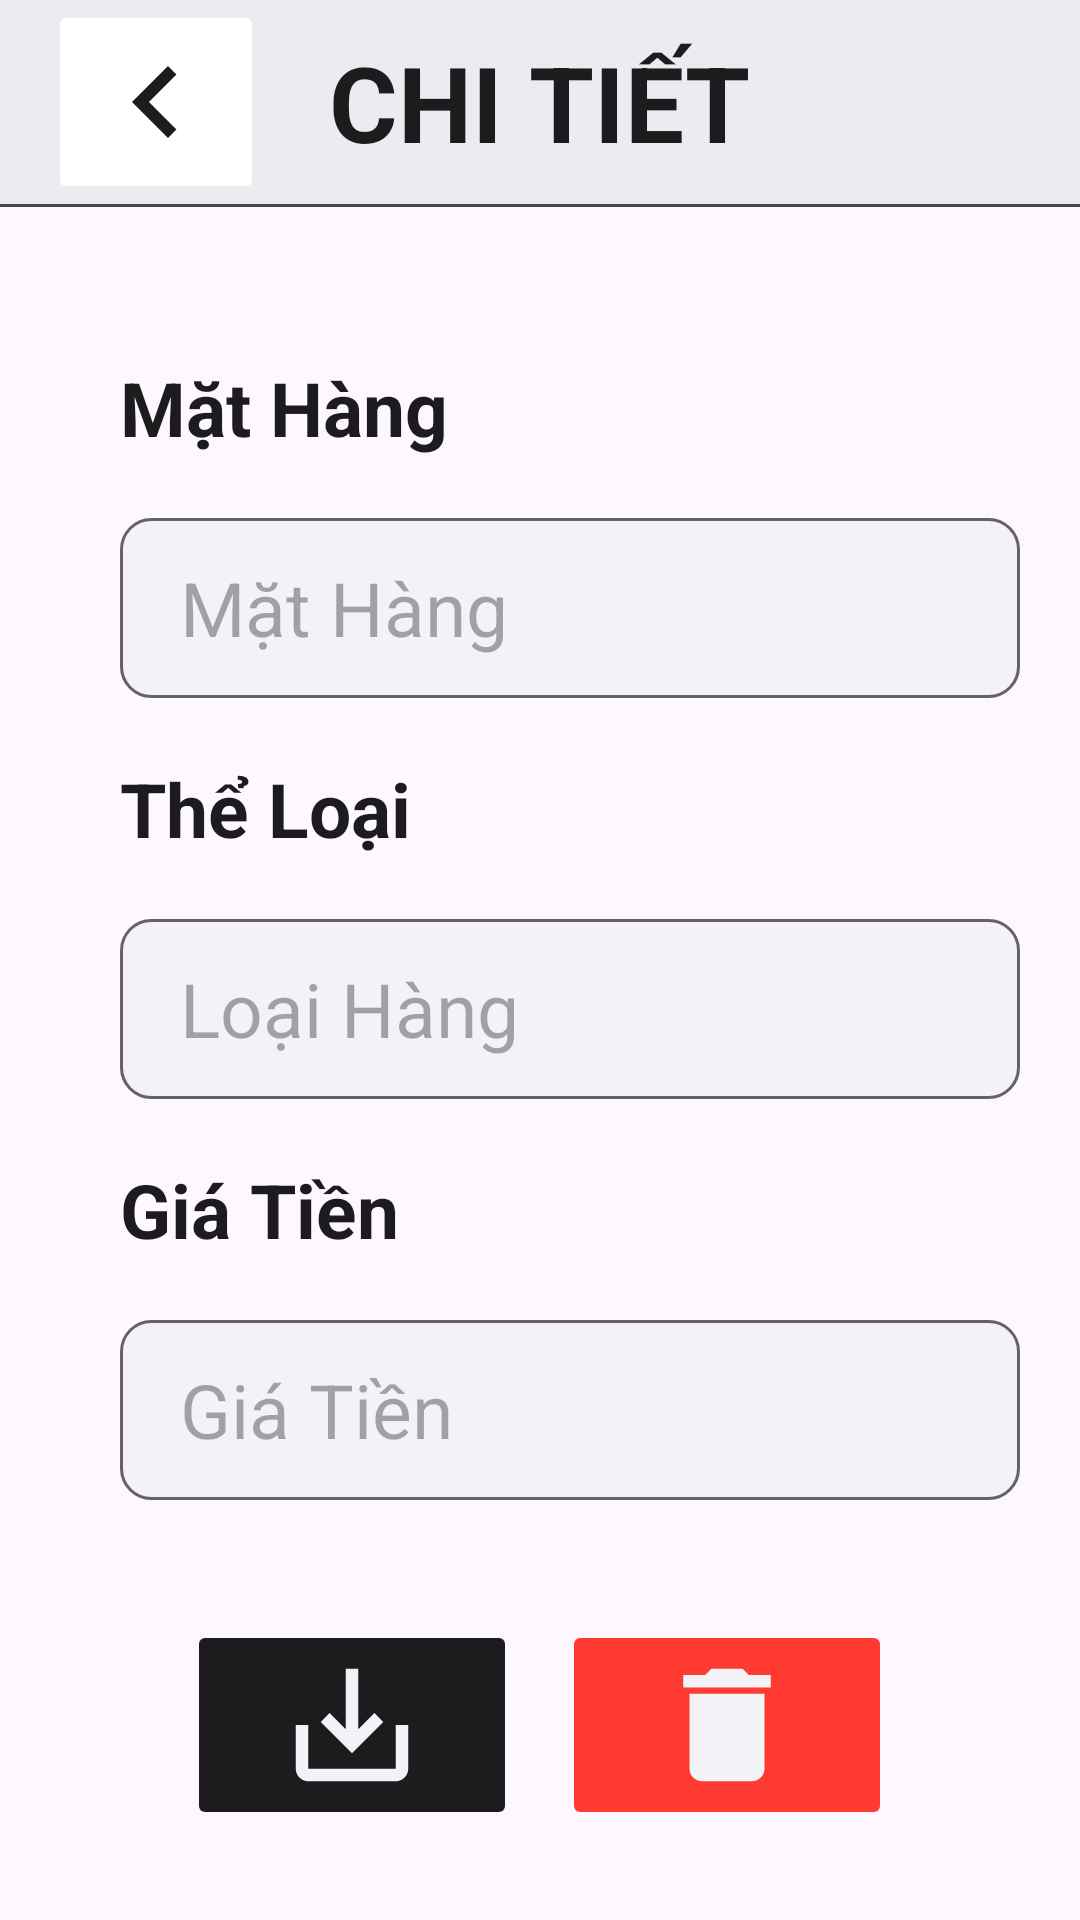

Screen size 1080 × 1920. Icon name, then its center in pixels as (x=x, y=y):
delete: (x=727, y=1725)
save: (x=352, y=1725)
